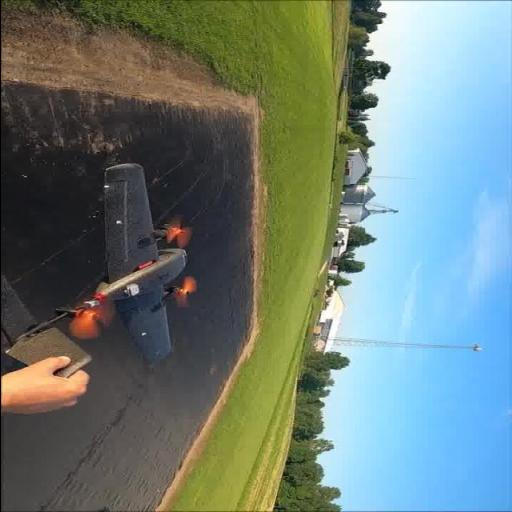uav: (50, 160, 204, 362)
